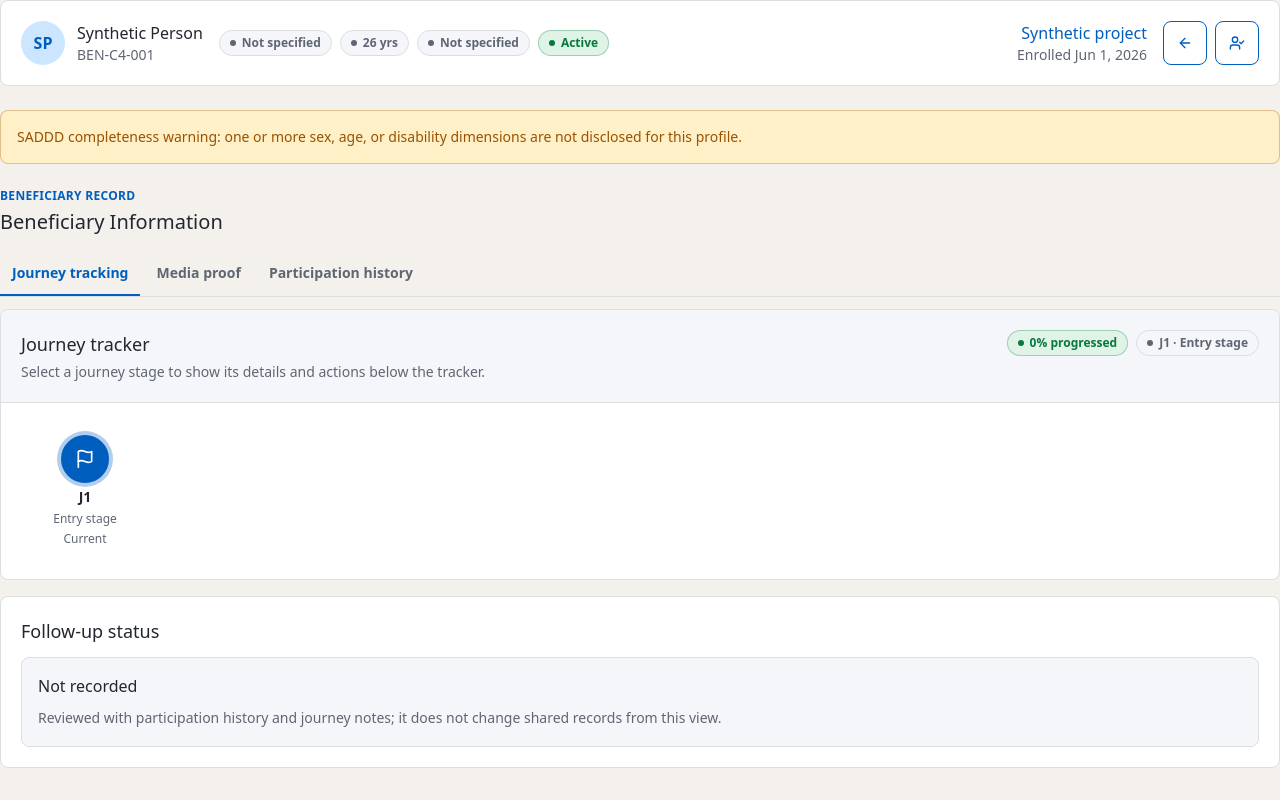
Test: BeneficiaryDetail assessments › opens the pre and post scores with the change for the selected stage
Click the button "J1 Entry stage Current" at [85, 491], box top-left (37, 435), bottom-right (133, 547)
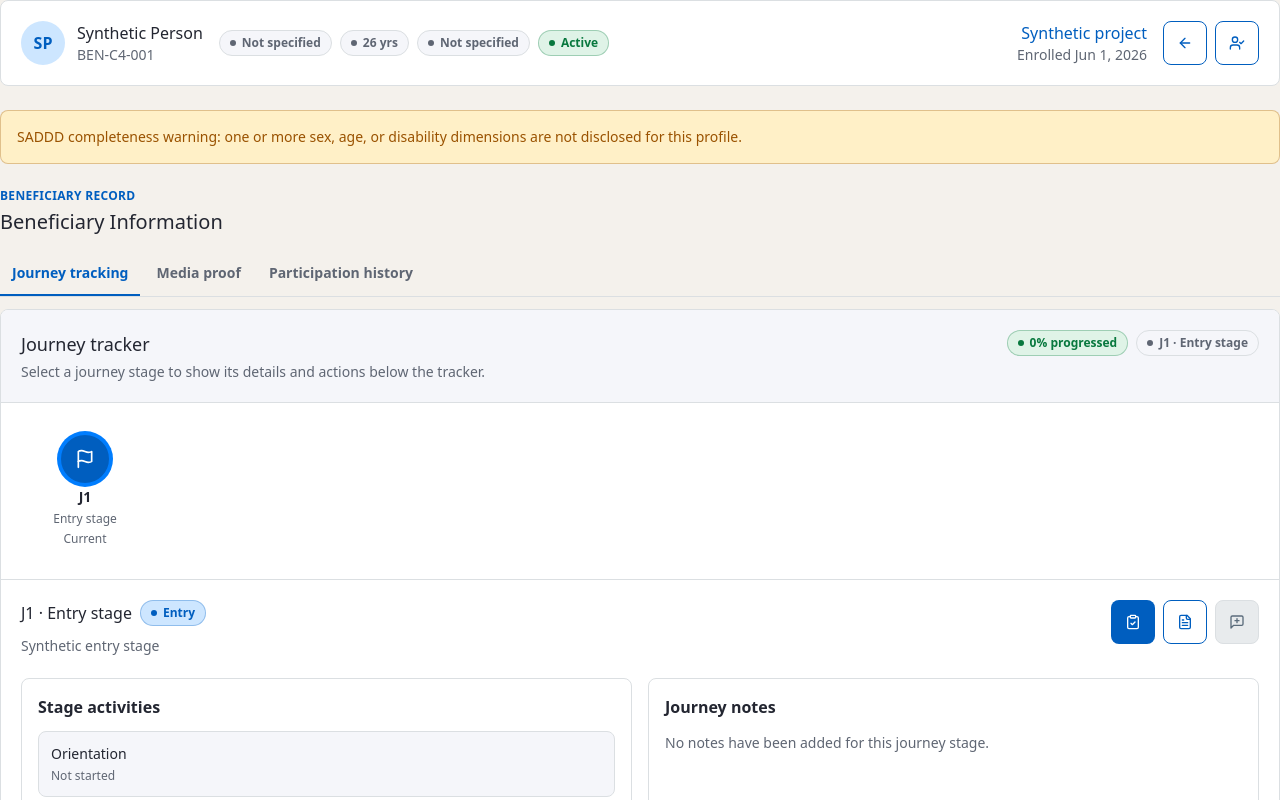
Check: the button named "View assessment" is enabled
Click the button named "View assessment" at [1185, 622], box top-left (1163, 600), bottom-right (1207, 644)
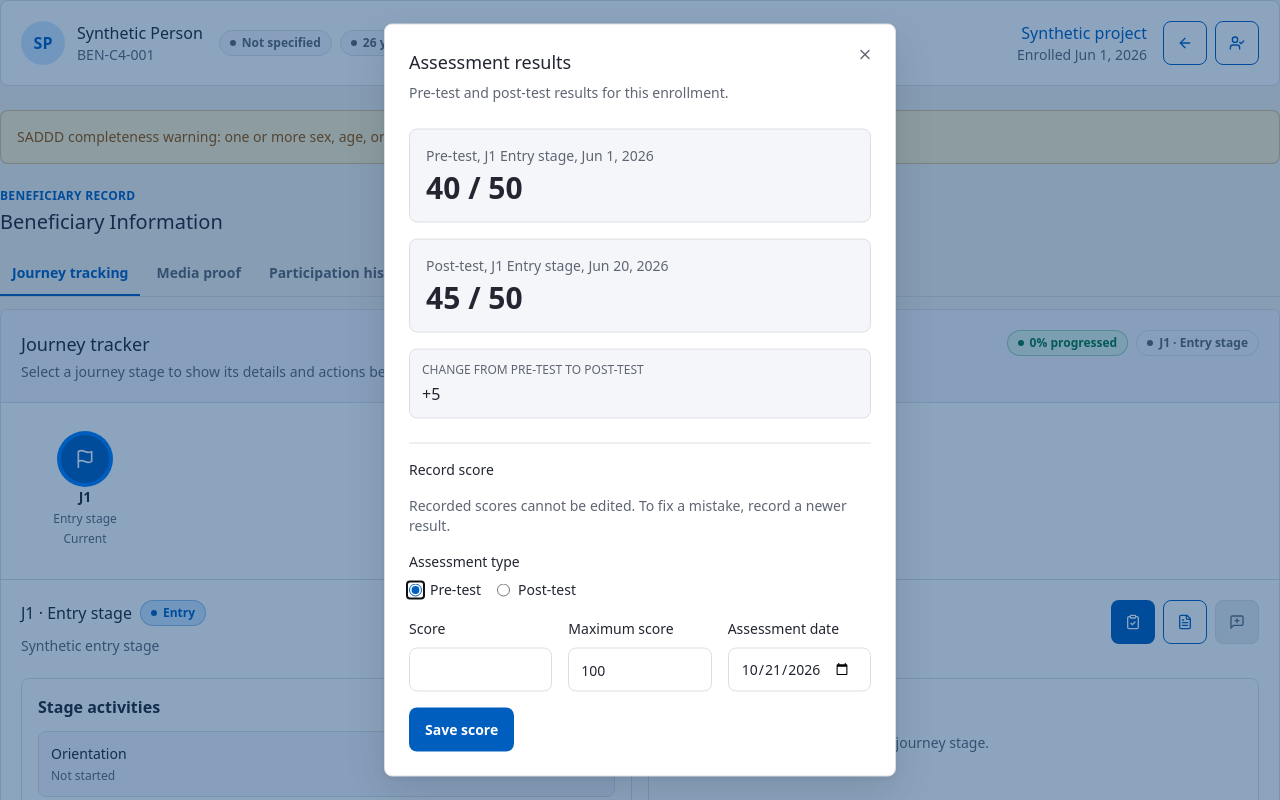
Check: the dialog shows "Pre-test", box top-left (426, 146), bottom-right (477, 164)
Check: the dialog shows "40 / 50", box top-left (384, 24), bottom-right (896, 776)
Check: the dialog shows "post-test", box top-left (426, 256), bottom-right (484, 274)
